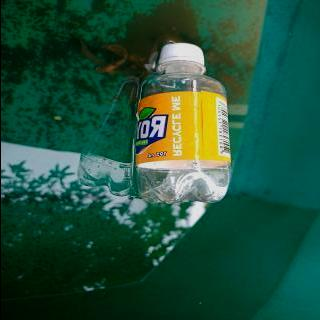bottle: (130, 42, 234, 205)
